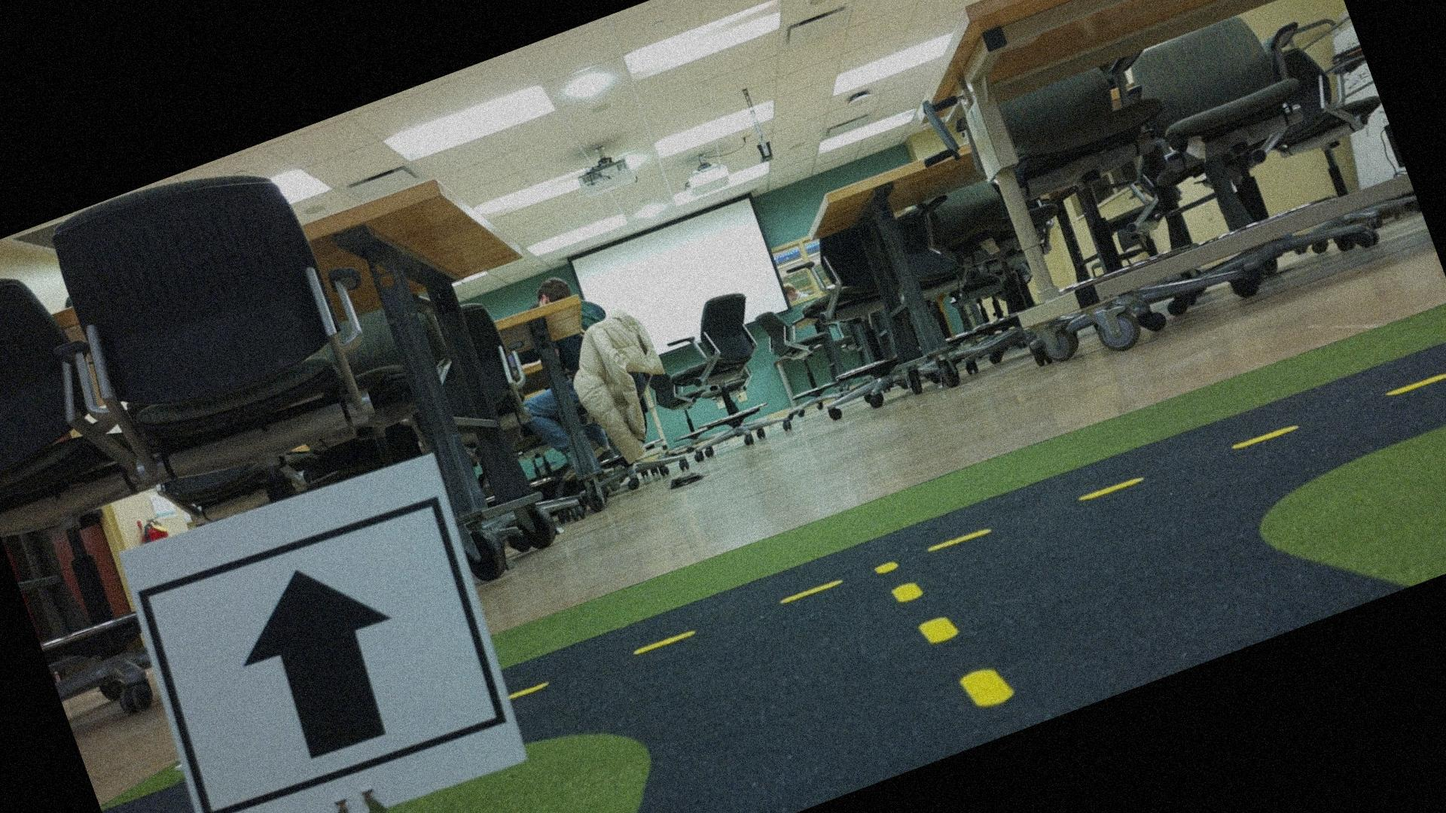gostraight: (125, 458, 530, 812)
yellowline: (511, 345, 1445, 717), (875, 538, 1014, 731)
